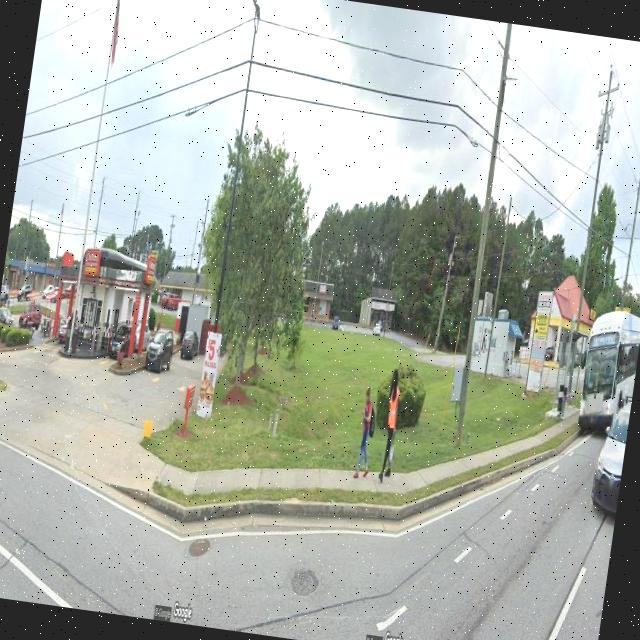seating: (564, 392, 572, 410)
shelter: (550, 328, 590, 416)
trash_can: (556, 386, 566, 412), (560, 387, 568, 416)
